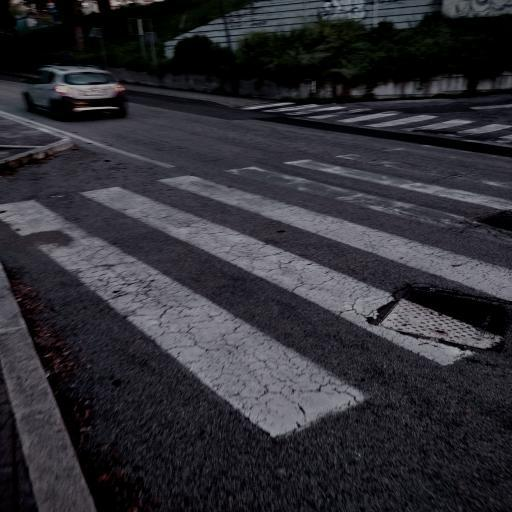crosswalk: (1, 178, 505, 447)
